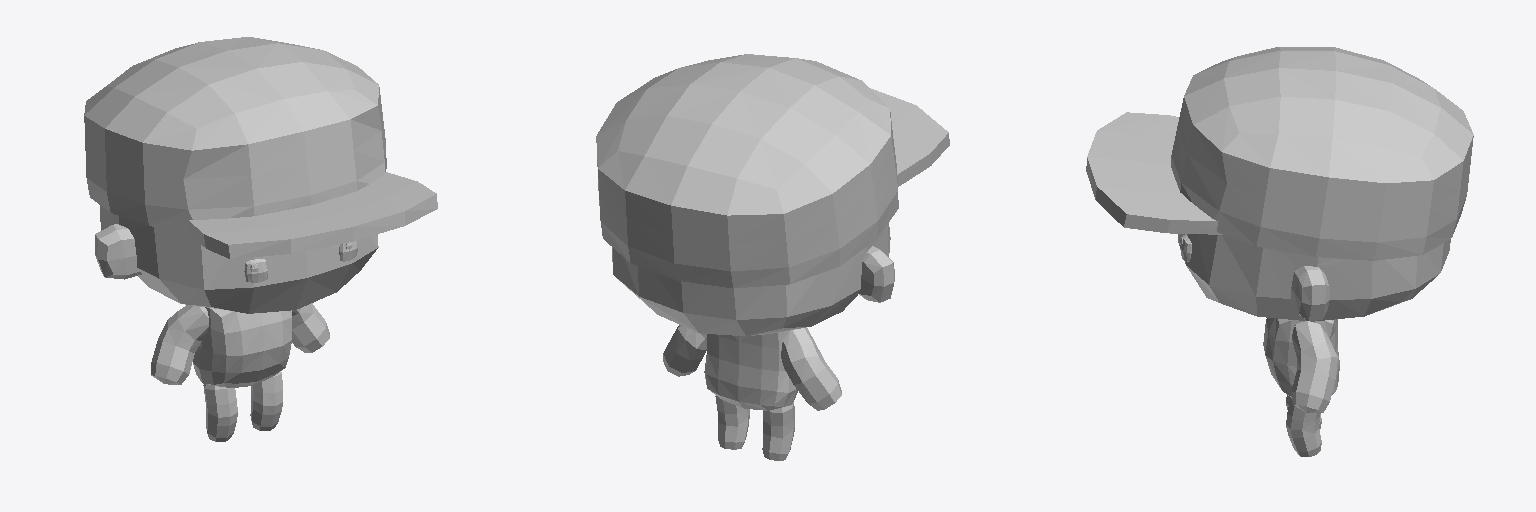
The model's file is idle_0029.obj.
3 views of the same model, side by side, from view 1: azimuth 30°, elevation 25°; view 2: azimuth 150°, elevation 25°; view 3: azimuth 270°, elevation 25° (orthographic).
Parts seen in each view (by area): view 1: Object_41, Object_42, Object_36, Object_44, Object_38; view 2: Object_41, Object_44, Object_36, Object_42; view 3: Object_41, Object_36, Object_42, Object_44.
Boxes of the visible parts, x1,y1,x2,y2 form: Object_41: [84, 37, 386, 230]; Object_42: [183, 106, 437, 258]; Object_36: [95, 205, 378, 313]; Object_44: [151, 303, 329, 441]; Object_38: [244, 241, 357, 282]; Object_41: [596, 54, 898, 288]; Object_44: [663, 325, 841, 460]; Object_36: [612, 223, 894, 335]; Object_42: [870, 88, 949, 186]; Object_41: [1184, 47, 1473, 260]; Object_36: [1178, 234, 1450, 321]; Object_42: [1086, 98, 1226, 234]; Object_44: [1263, 318, 1339, 456].
Bounding box in the file's own units: 0.9691 × 1.22 × 1.14.